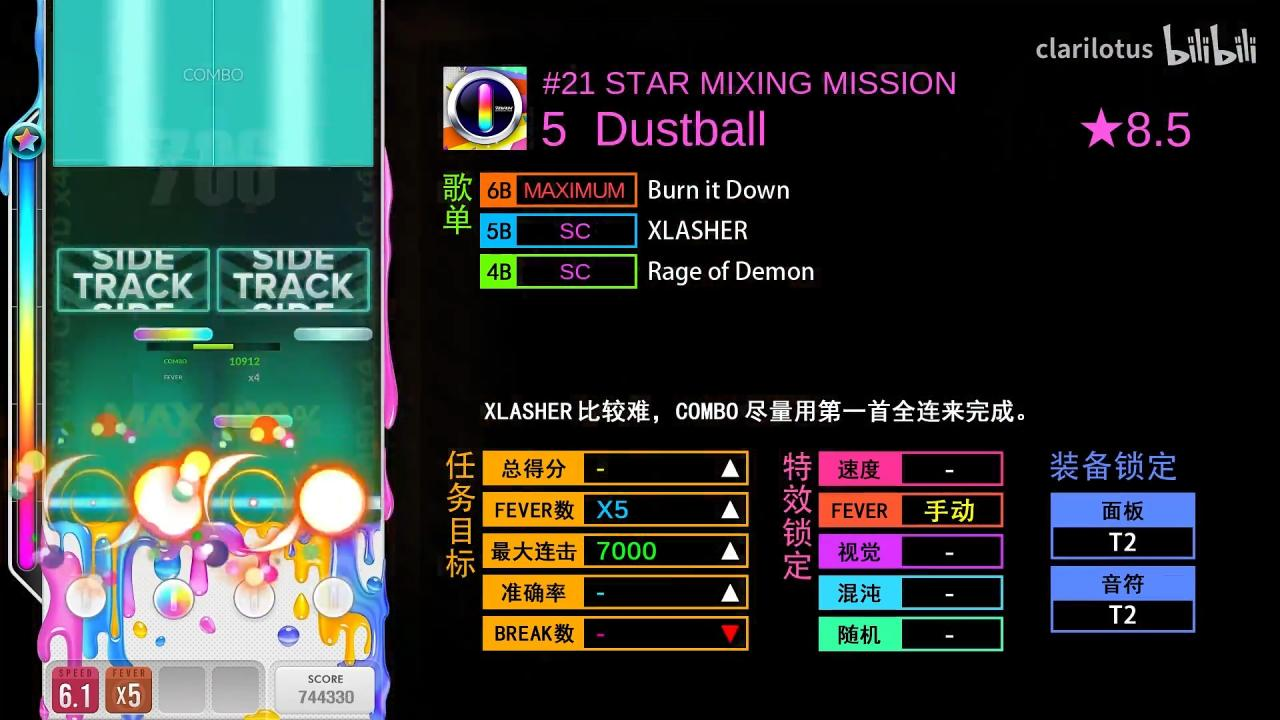note: (294, 327, 374, 342), (134, 327, 214, 341), (213, 415, 293, 428)
side-start: (52, 154, 214, 167), (214, 154, 373, 167)
